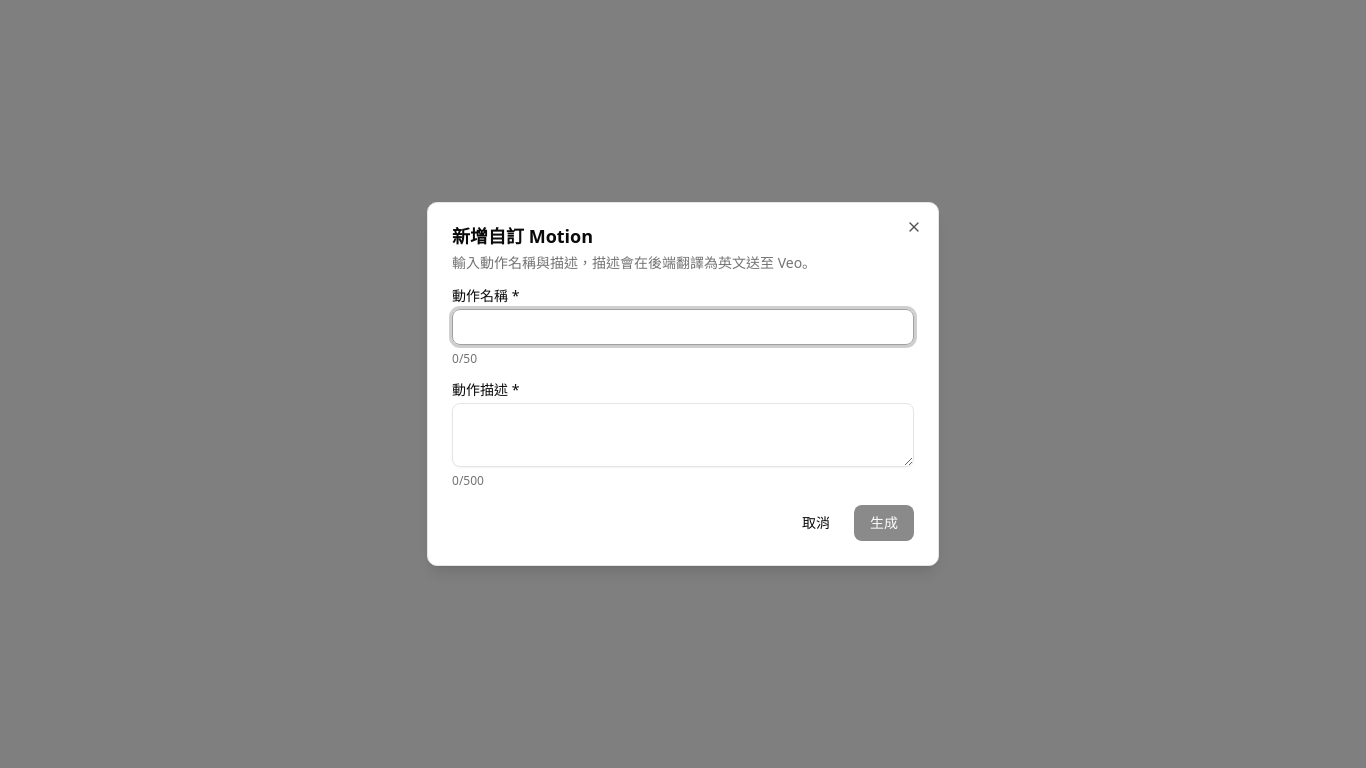
Scenario: CustomMotionModal › surfaces VALIDATION_* inline using the backend message
In the field with test id "custom-motion-name-input": (683, 327) [452,309,914,345], type "揮手"
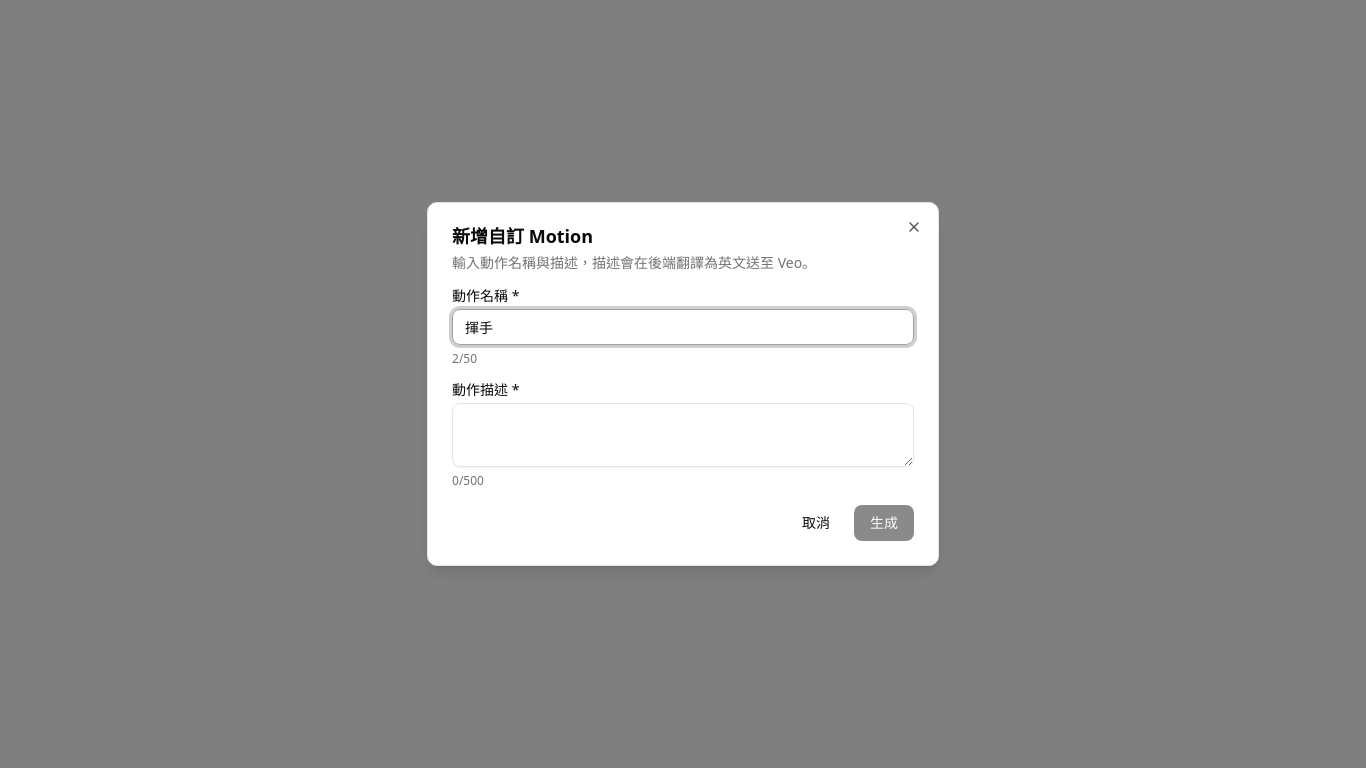
In the text box with test id "custom-motion-description-input": (683, 435) [452,403,914,467], type "<bad>"
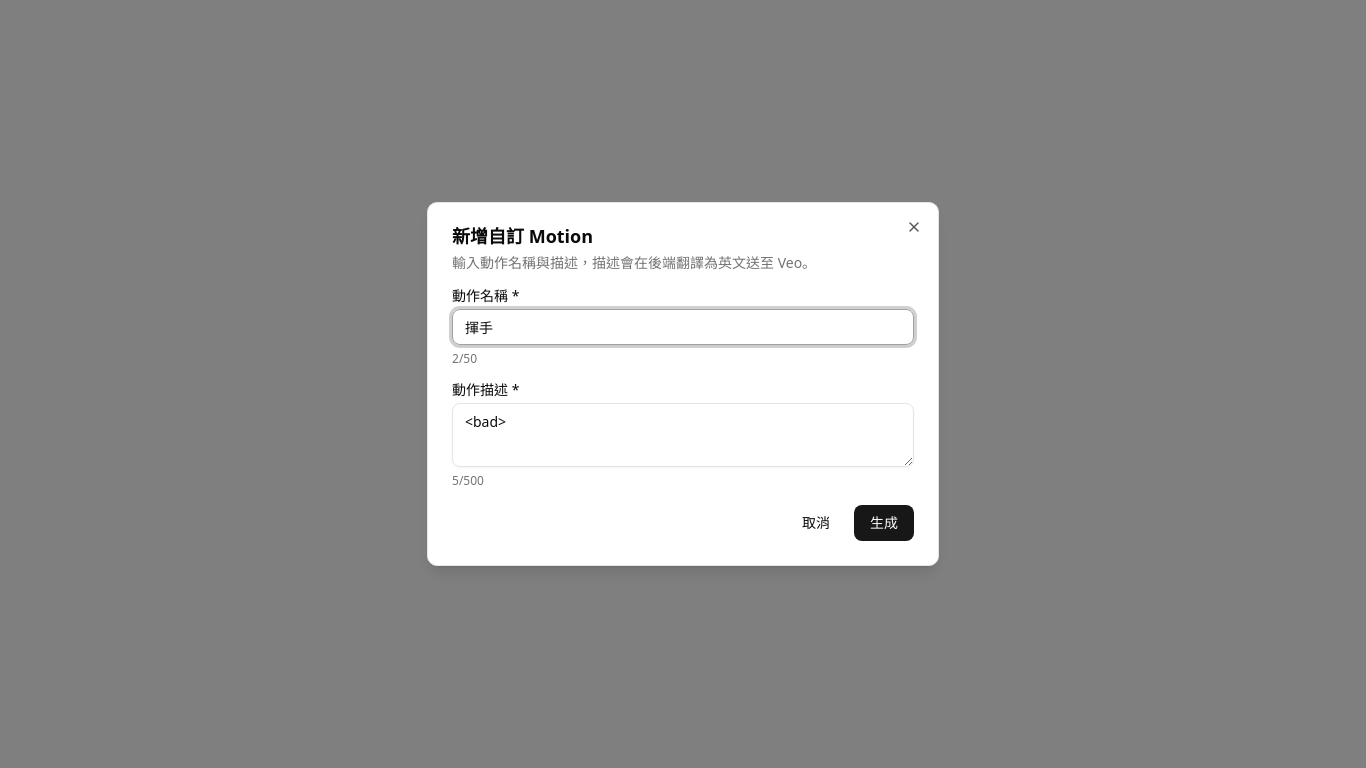
Click the button with test id "custom-motion-submit": (884, 523) [854,505,914,541]
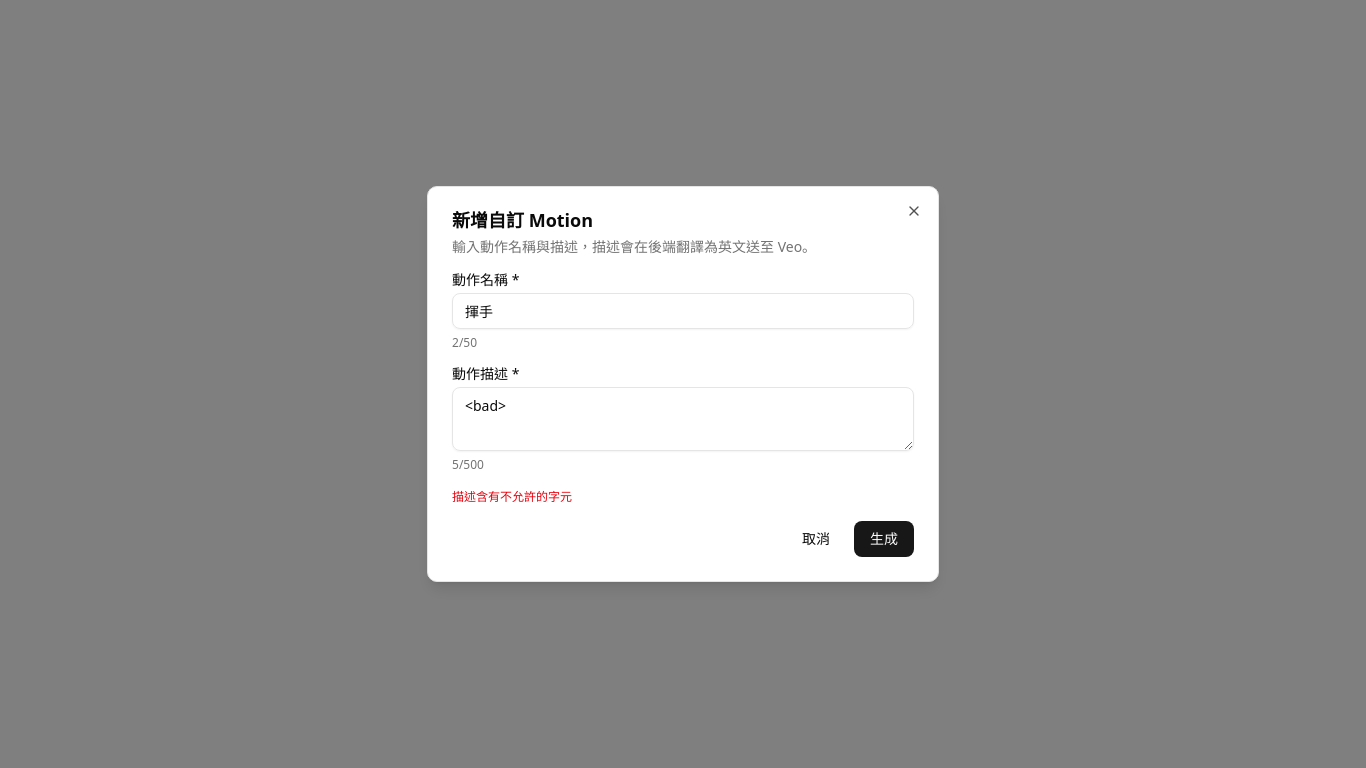
Check: the message with test id "custom-motion-error" reads "描述含有不允許的字元", box [452,488,572,505]
